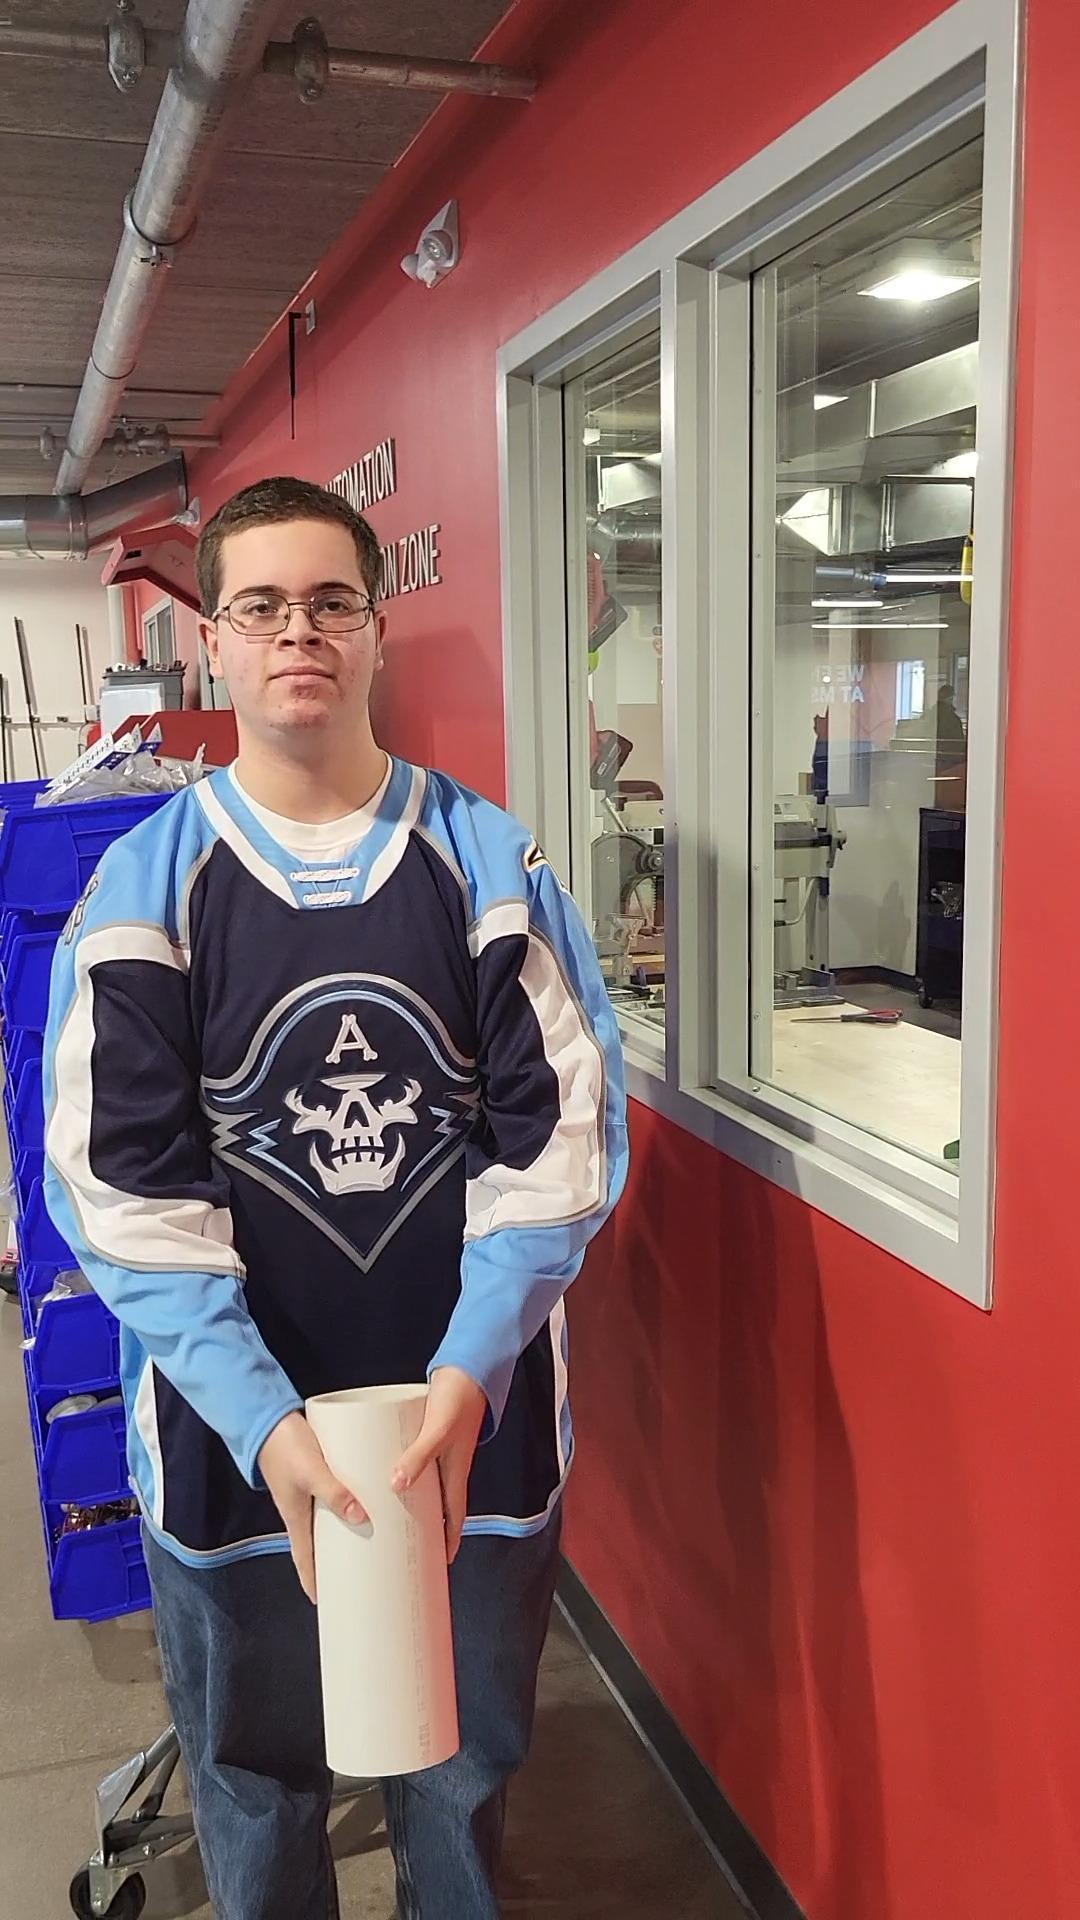coral: (284, 1360, 476, 1782)
